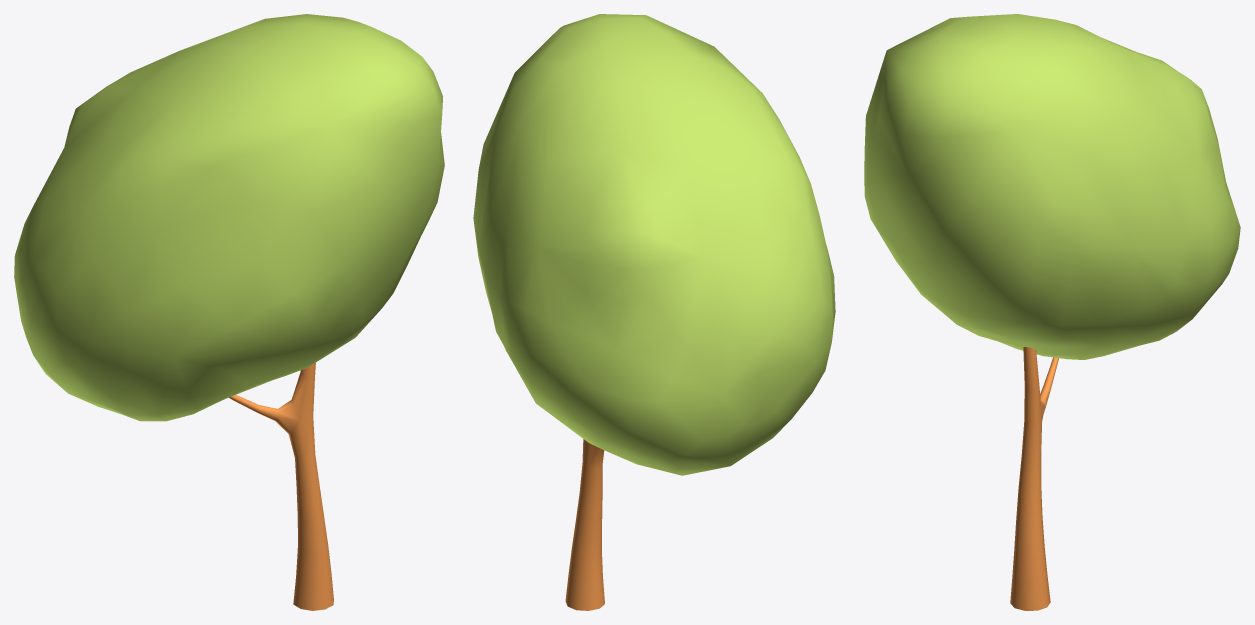
The model's file is Tree_C.fbx.
3 views of the same model, side by side, from view 1: azimuth 30°, elevation 25°; view 2: azimuth 150°, elevation 25°; view 3: azimuth 270°, elevation 25° (orthographic). The views are drawn at different scales.
Parts seen in each view (by area): view 1: Oak_Tree_m_04; view 2: Oak_Tree_m_04; view 3: Oak_Tree_m_04.
Boxes of the visible parts, box(x1,y1,x2,y2) form: Oak_Tree_m_04: box(14, 14, 444, 610); Oak_Tree_m_04: box(473, 14, 835, 610); Oak_Tree_m_04: box(864, 14, 1240, 610).
Bounding box in the file's own units: 522 × 797 × 482.
